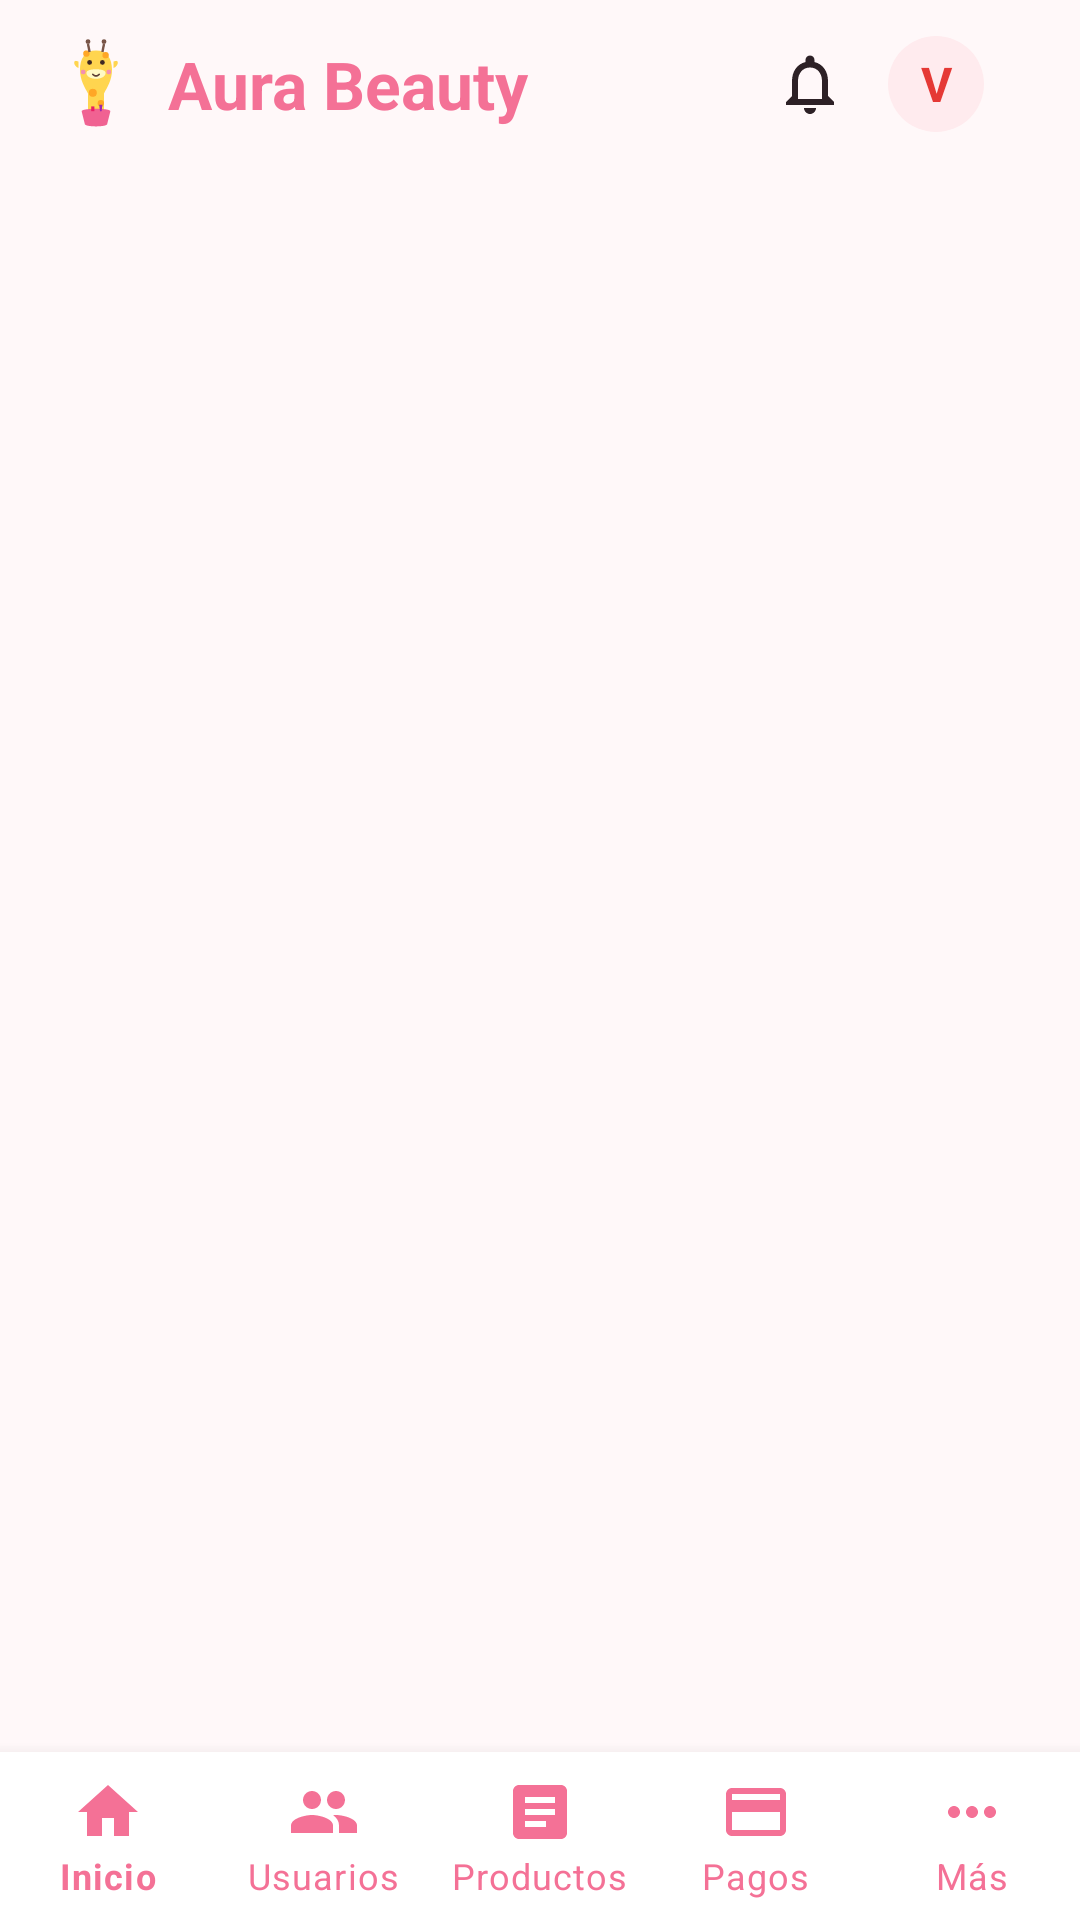

Locate icon controls on the screen. Image size 1080w x 1920h, boxes as (x1, y1, x2, y2).
giraffe mascot: (74, 39, 118, 127)
Notificaciones: (786, 55, 834, 114)
